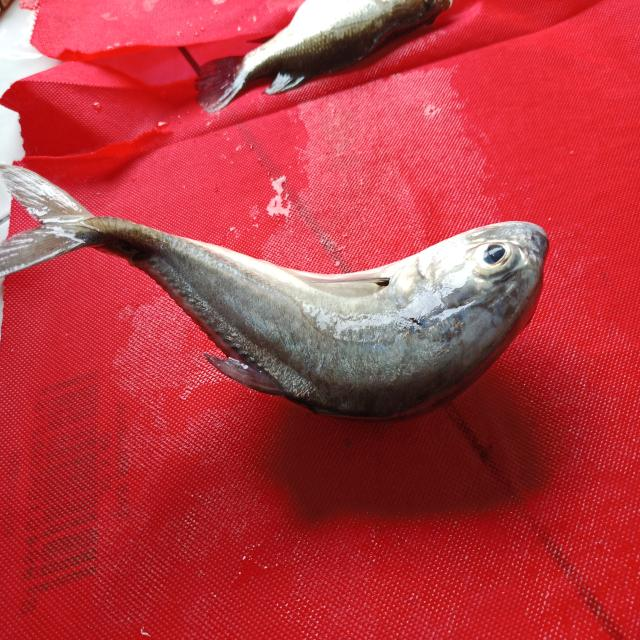ikan: (1, 161, 550, 422), (189, 0, 453, 115)
